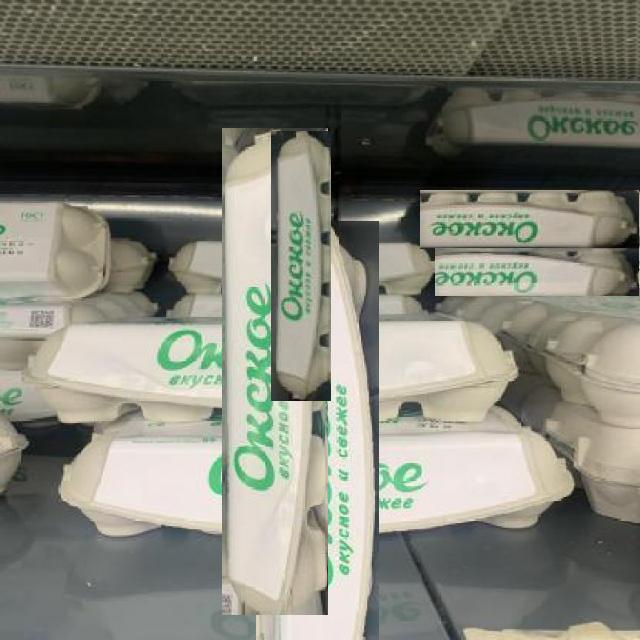Egg: (256, 220, 379, 640), (223, 128, 328, 615), (272, 130, 331, 401), (419, 189, 639, 249), (435, 247, 639, 296)
